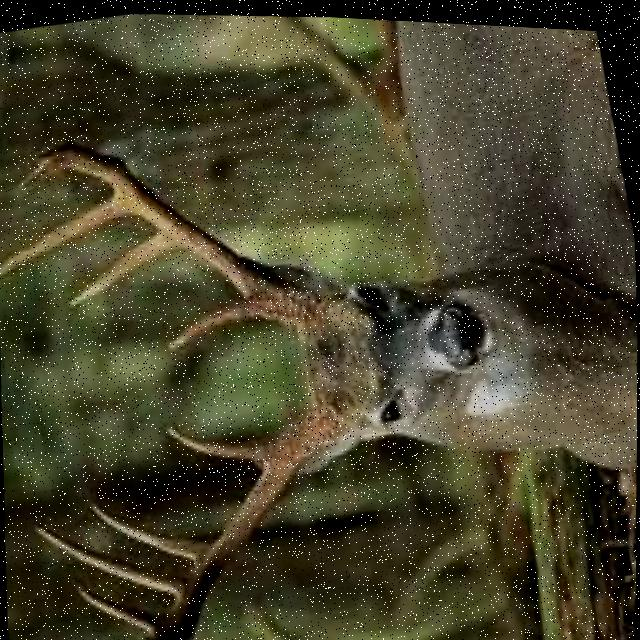L-F: (16, 146, 317, 322)
L-G1: (167, 293, 277, 348)
L-G2: (68, 229, 177, 304)
L-G3: (0, 195, 126, 274)
R-F: (143, 398, 341, 640)
R-G1: (165, 424, 258, 459)
R-G2: (88, 501, 209, 559)
R-G3: (32, 521, 184, 598)
R-G4: (76, 583, 156, 636)
